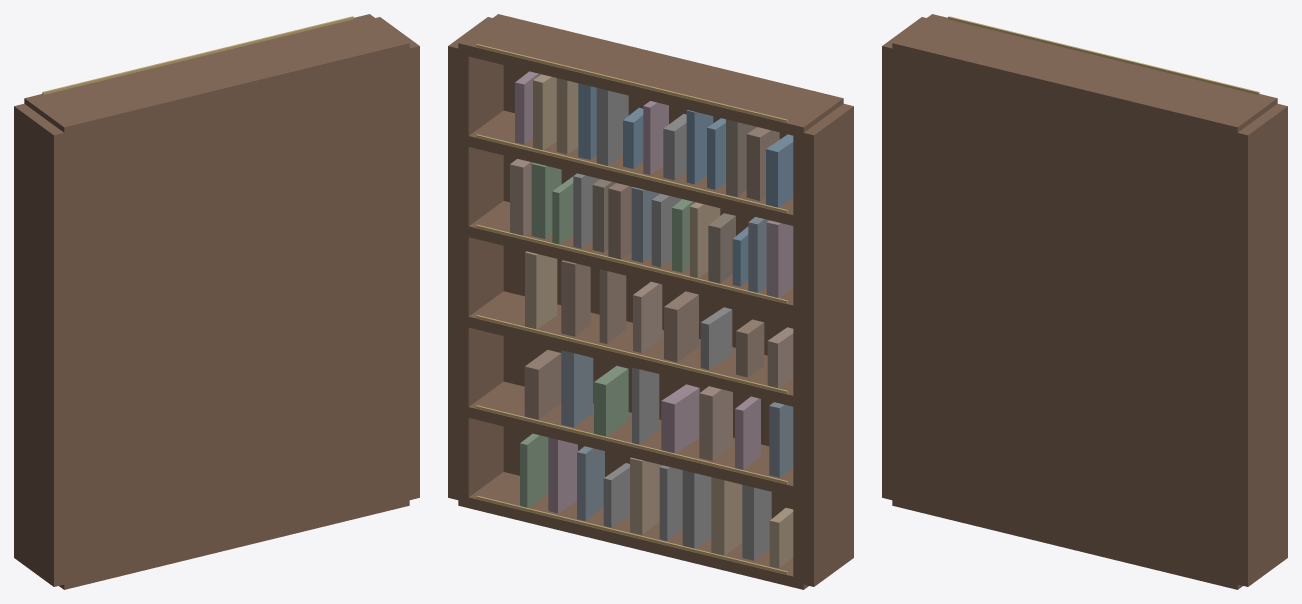
3 renders of one model, left to right at view 1: azimuth 30°, elevation 25°; view 2: azimuth 150°, elevation 25°; view 3: azimuth 330°, elevation 25°, orthographic.
Visible parts, largest first — view 1: Cube.002, Cube, Cube.013, Cube.001, Cube.011, Cube.007, Cube.003, Cube.009, Cube.005, Cube.014; view 2: Cube, Cube.001, Cube.013, Cube.002, Cube.007, Cube.005, Cube.003, Cube.011, Cube.009, Book.025, Book.012, Book.016 (+56 smaller); view 3: Cube.002, Cube.001, Cube.013, Cube, Cube.011, Cube.007, Cube.009, Cube.003, Cube.005, Cube.014.
Part boxes in pixels (x1,y1,x2,y2): Cube.002: [64, 48, 409, 581]; Cube: [14, 103, 74, 586]; Cube.013: [24, 14, 409, 137]; Cube.001: [375, 17, 419, 502]; Cube.011: [64, 134, 409, 227]; Cube.007: [64, 314, 409, 408]; Cube.003: [59, 495, 409, 589]; Cube.009: [67, 224, 409, 317]; Cube.005: [65, 405, 408, 497]; Cube.014: [42, 16, 353, 94]; Cube: [793, 103, 853, 586]; Cube.001: [448, 17, 503, 502]; Cube.013: [458, 14, 843, 137]; Cube.002: [503, 65, 793, 518]; Cube.007: [460, 291, 803, 409]; Cube.005: [461, 381, 803, 499]; Cube.003: [458, 472, 808, 589]; Cube.011: [458, 110, 803, 228]; Cube.009: [458, 201, 803, 318]; Book.025: [525, 251, 557, 329]; Book.012: [699, 386, 732, 460]; Book.016: [561, 350, 593, 427]; Cube.002: [892, 51, 1237, 581]; Cube.001: [1227, 103, 1287, 586]; Cube.013: [892, 14, 1277, 137]; Cube: [882, 17, 926, 502]; Cube.011: [892, 136, 1237, 228]; Cube.007: [895, 315, 1237, 409]; Cube.009: [892, 224, 1237, 318]; Cube.003: [892, 495, 1242, 589]; Cube.005: [901, 407, 1237, 499]; Cube.014: [948, 16, 1259, 94].
Bounding box in the file's own units: 2.12 × 2.57 × 0.4.
